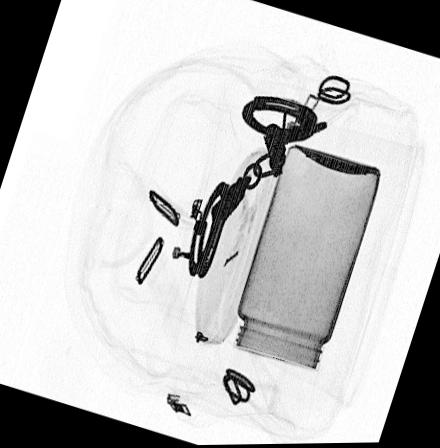HandCuffs: (189, 95, 329, 281)
